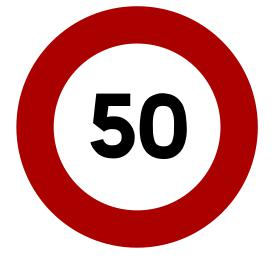Speed Limit -50-: (0, 1, 275, 259)
